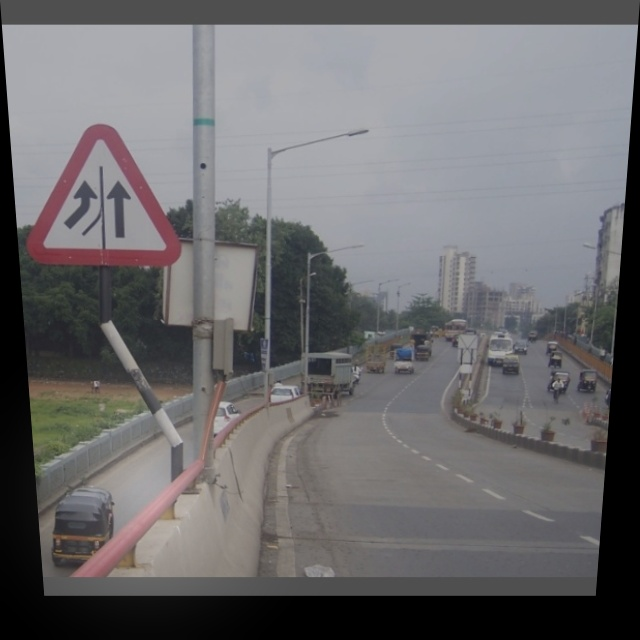Merge_Traffic_Ahead: (35, 112, 162, 275)
